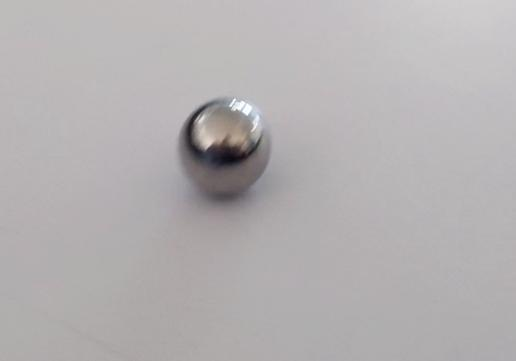steelball: (169, 90, 274, 204)
